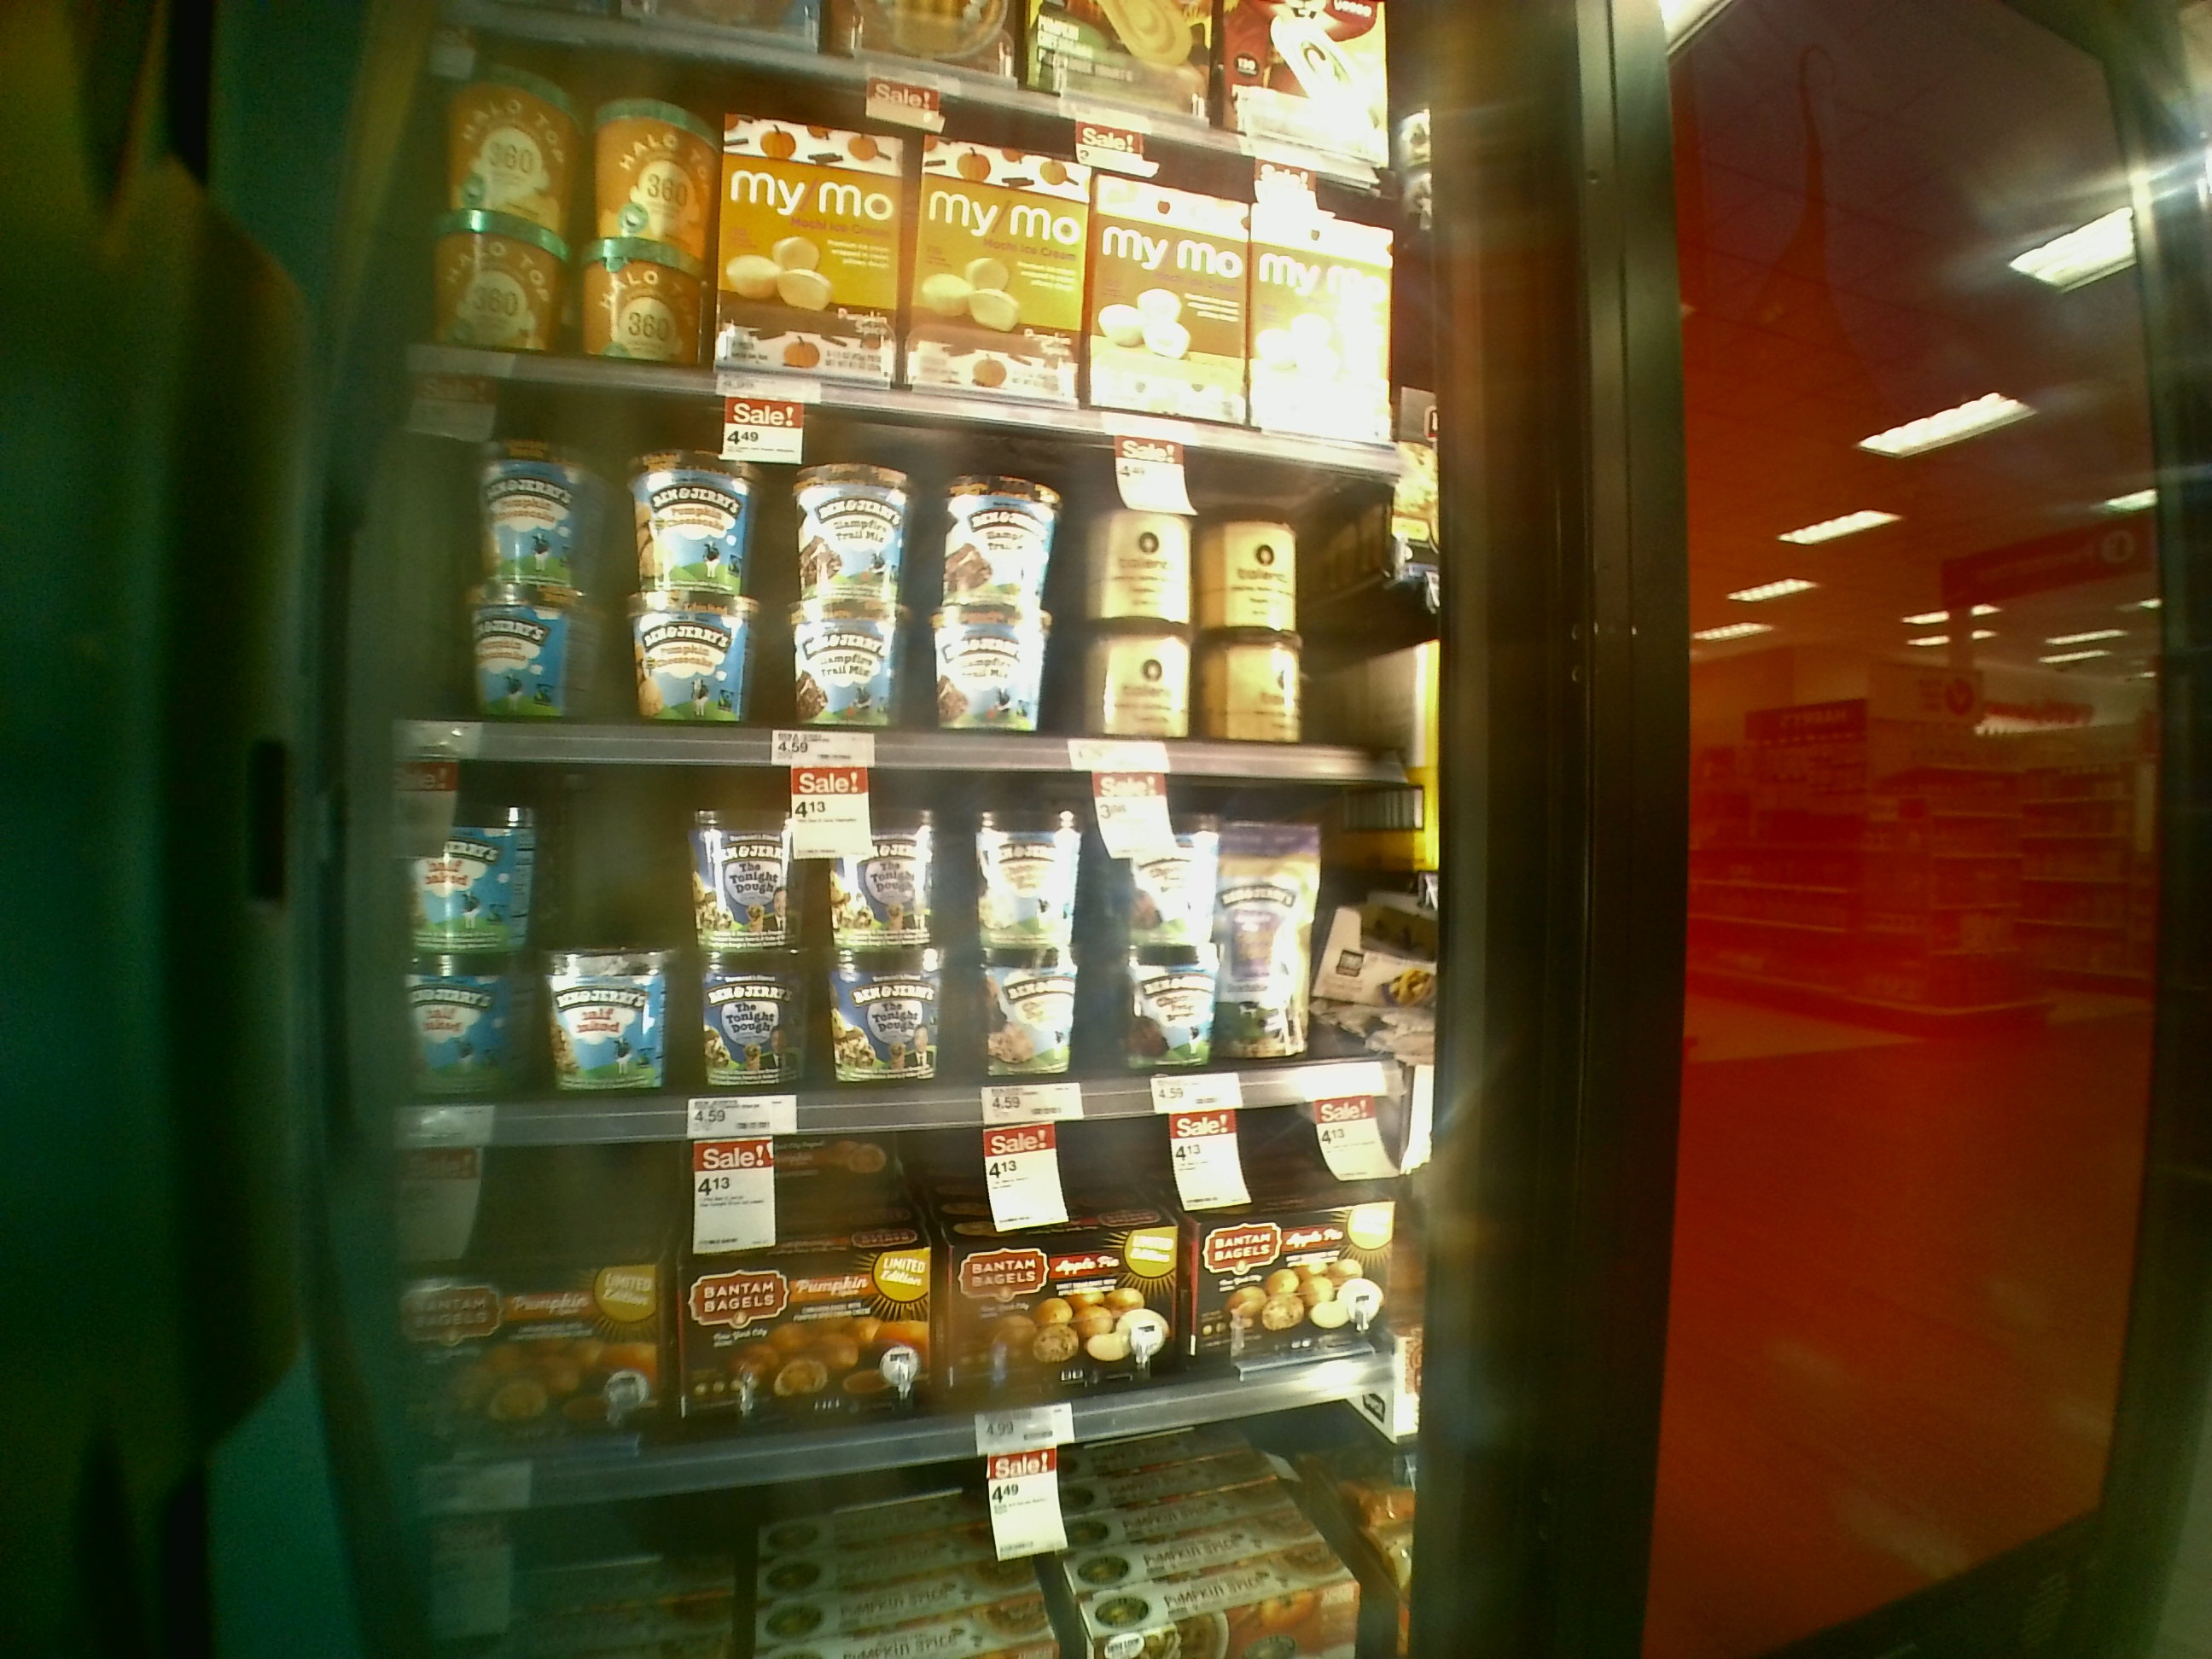shelf: (355, 375, 1444, 784), (334, 1100, 1423, 1500), (359, 775, 1426, 1122)
